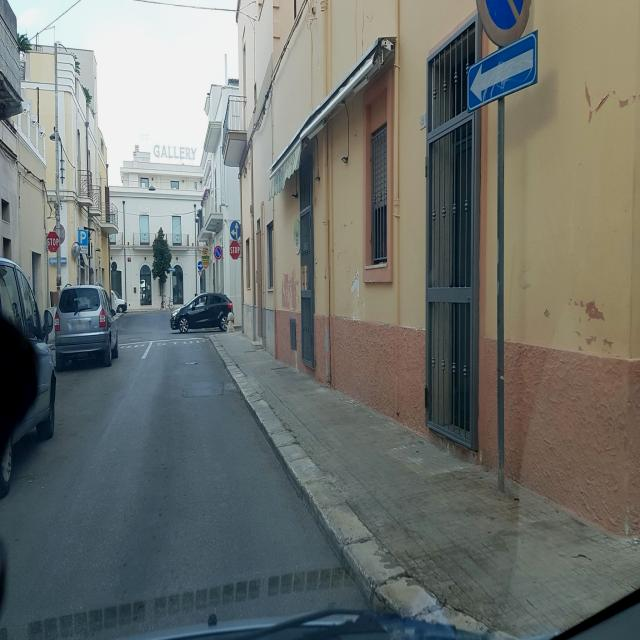car: (0, 247, 57, 496), (54, 283, 119, 369), (170, 290, 233, 332)
